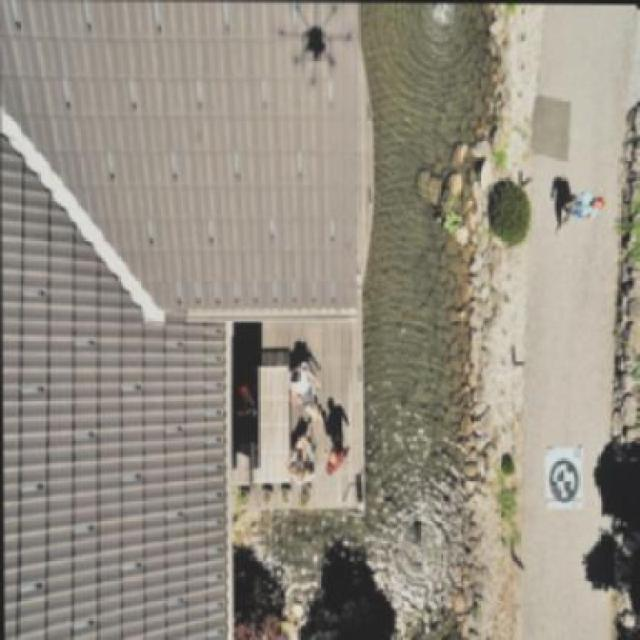Person: (550, 184, 613, 242), (291, 355, 329, 420), (283, 429, 317, 478), (318, 433, 349, 479)
